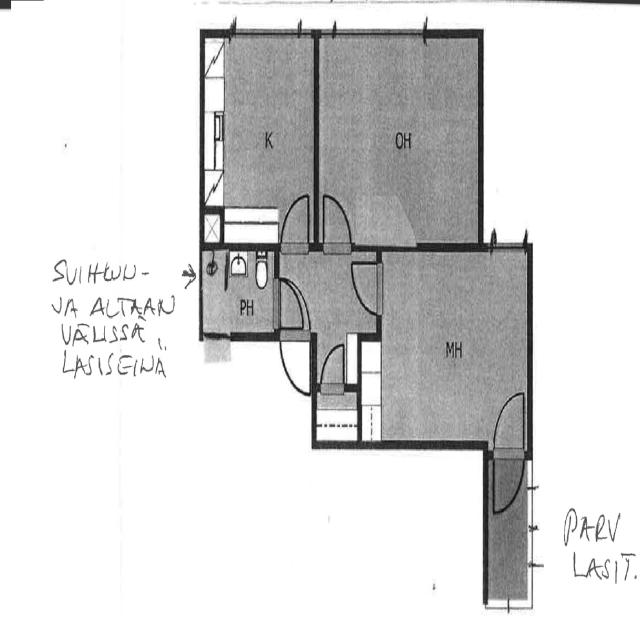door: (491, 388, 526, 518), (278, 287, 310, 375), (350, 250, 384, 318), (279, 188, 312, 256), (280, 330, 313, 396), (320, 186, 352, 254), (274, 280, 306, 332), (320, 338, 347, 388)
window: (232, 18, 306, 41)
zone: (316, 31, 482, 249), (374, 244, 529, 445), (200, 31, 317, 250), (200, 244, 278, 338), (315, 386, 359, 442)
